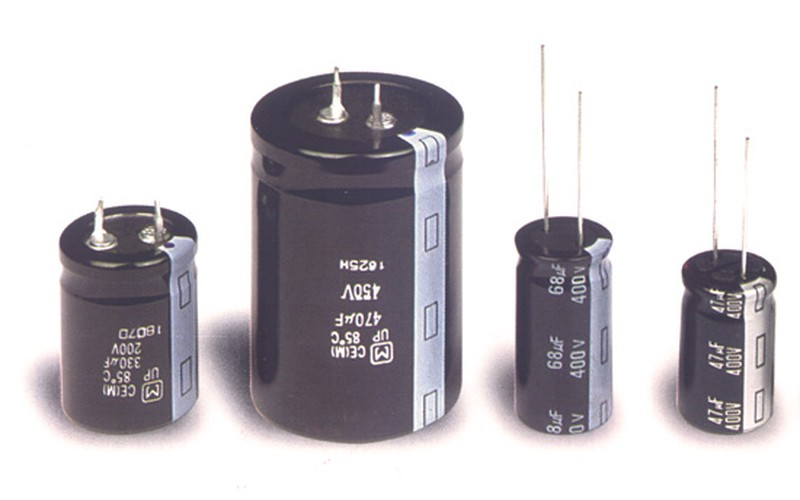Capacitor: (225, 47, 475, 467), (498, 25, 626, 445), (665, 83, 784, 448), (53, 180, 212, 435)
